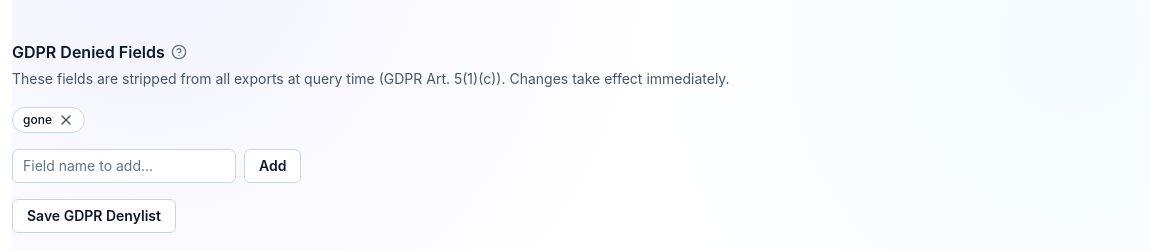
it: GdprDenylistEditor › removes a field when its remove button is clicked
This screenshot has width=1150, height=250.
Click the button named "Remove gone": (66, 120) [58, 112, 74, 128]
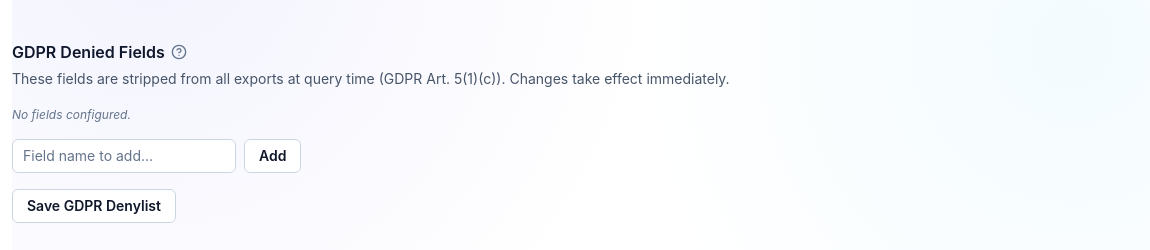
Check: the text "gone" is gone
